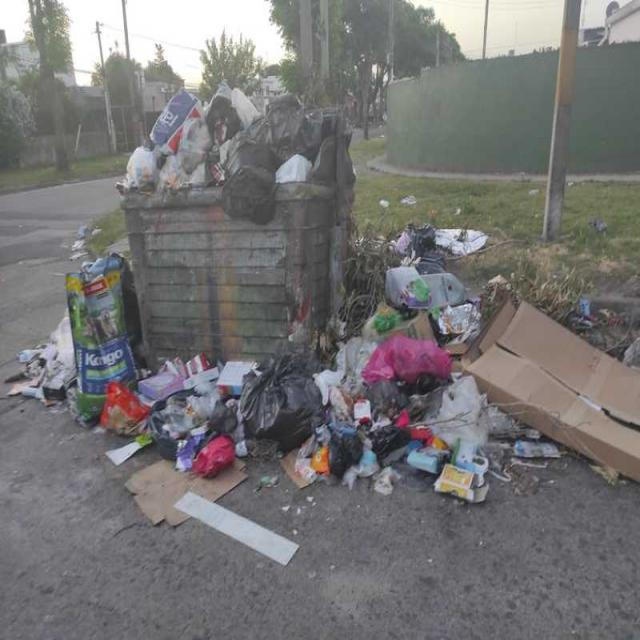garbage: (152, 343, 498, 523), (466, 284, 640, 496), (0, 253, 150, 464), (122, 90, 354, 224), (356, 263, 502, 343), (364, 218, 505, 260)
